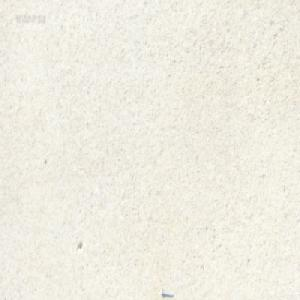Nail: (161, 288, 173, 296)
